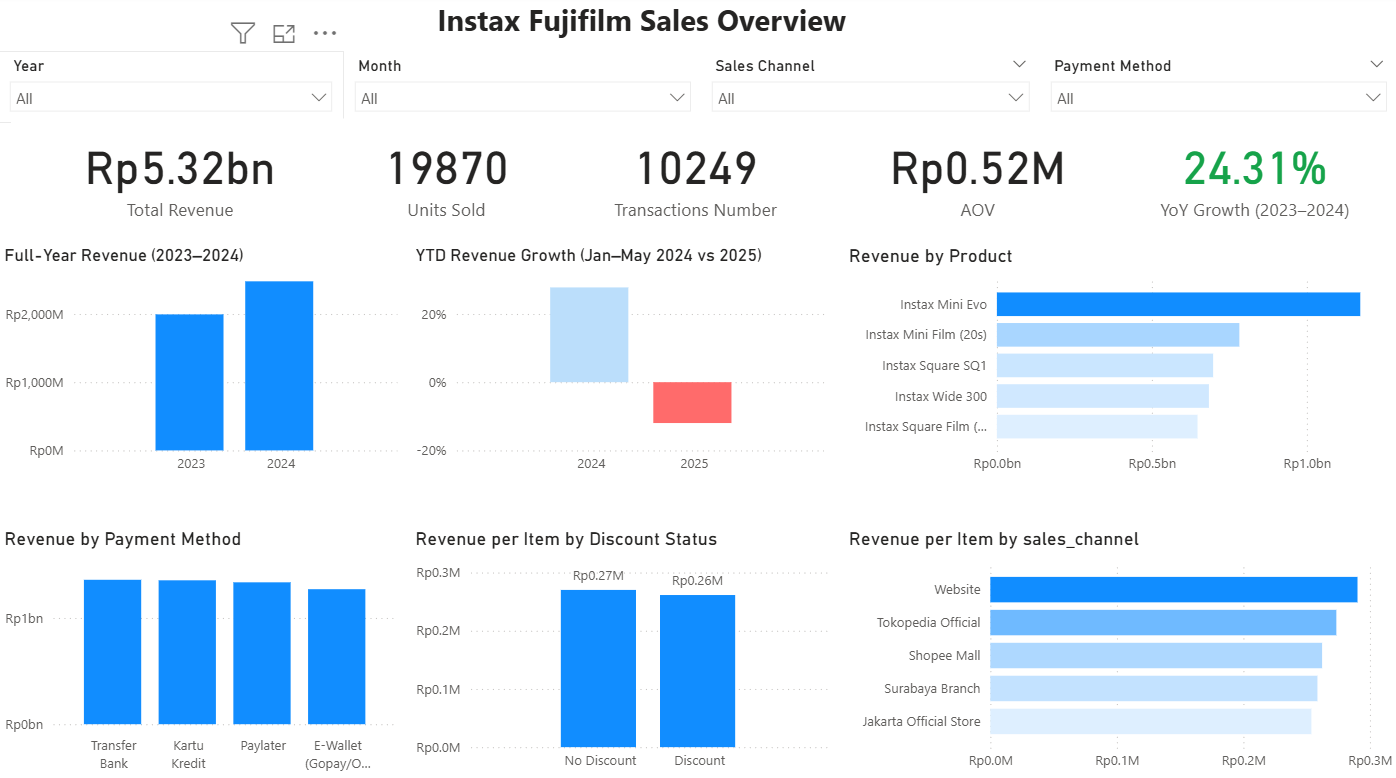

The dashboard page shown, as its layout file describes it:
{"tool":"powerbi","page":{"name":"KPIs","canvas":[1280,720],"ordinal":1},"visuals":[{"type":"clusteredColumnChart","title":"Full-Year Revenue (2023–2024)","fields":{"Category":["Date.Date.Variation.Date Hierarchy.Year","Date.Date.Variation.Date Hierarchy.Quarter","Date.Date.Variation.Date Hierarchy.Month","Date.Date.Variation.Date Hierarchy.Day"],"Y":["New Measures.Total revenue"]},"box":[1.5,157.5,564.8,265],"z":0},{"type":"card","fields":{"Values":["New Measures.total_revenue"]},"box":[0,0,308.9,157.5],"z":1000},{"type":"card","fields":{"Values":["New Measures.num_of_transactions"]},"box":[466.4,0,195.3,157.5],"z":2000},{"type":"card","fields":{"Values":["New Measures.Quantity"]},"box":[287.7,0,178.7,157.5],"z":3000},{"type":"slicer","fields":{"Values":["Date.Date.Variation.Date Hierarchy.Year"]},"box":[985,0,295,121.7],"z":4000},{"type":"card","fields":{"Values":["New Measures.Growth %"]},"box":[661.7,0,236.2,157.5],"z":5000},{"type":"tableEx","title":"YTD  (Jan - May)","fields":{"Values":["Date.Date.Variation.Date Hierarchy.Year","New Measures.total_revenue","New Measures.Growth %"]},"box":[661.7,471.7,455,211.7],"z":6000},{"type":"clusteredColumnChart","title":"YTD Revenue Growth (Jan–May 2024 vs 2025)","fields":{"Category":["Date.Date.Variation.Date Hierarchy.Year"],"Y":["New Measures.Growth %"]},"box":[19.7,443.7,545.1,260.4],"z":7000},{"type":"tableEx","title":"Total Revenue by Year","fields":{"Values":["Date.Date.Variation.Date Hierarchy.Year","Date.Date.Variation.Date Hierarchy.Month","New Measures.total_revenue"]},"box":[640.5,157.5,564.8,265],"z":8000}]}

Visuals, with their boxes in screenshot pixels (x1, y1, x2, y2), scaled from the page's 1280x720 canvas onto the 1396x778 screenshot:
"Full-Year Revenue (2023–2024)" clusteredColumnChart: Rect(2, 170, 618, 457)
card - New Measures.total_revenue: Rect(0, 0, 337, 170)
card - New Measures.num_of_transactions: Rect(509, 0, 722, 170)
card - New Measures.Quantity: Rect(314, 0, 509, 170)
slicer - Date.Date.Variation.Date Hierarchy.Year: Rect(1074, 0, 1395, 132)
card - New Measures.Growth %: Rect(722, 0, 979, 170)
"YTD  (Jan - May)" tableEx: Rect(722, 510, 1218, 738)
"YTD Revenue Growth (Jan–May 2024 vs 2025)" clusteredColumnChart: Rect(21, 479, 616, 761)
"Total Revenue by Year" tableEx: Rect(699, 170, 1315, 457)
